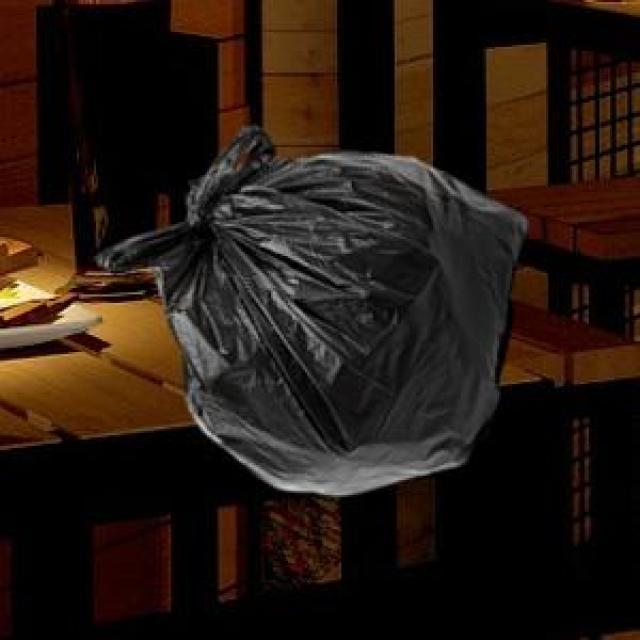miscellaneous trash: (92, 122, 525, 491)
